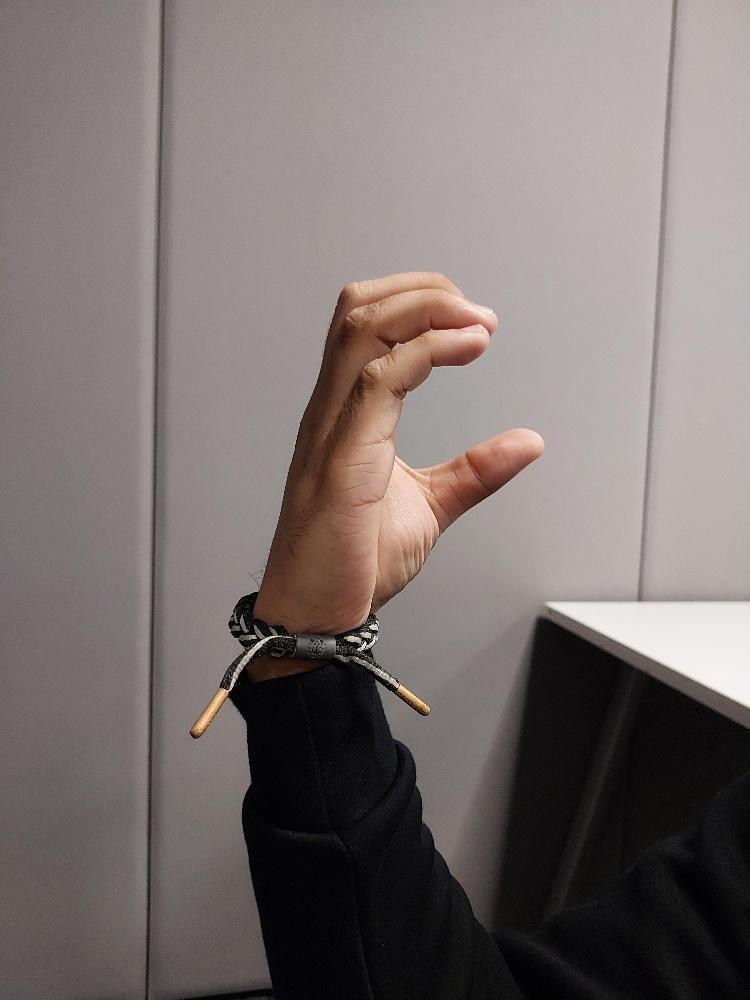c: (253, 268, 547, 636)
